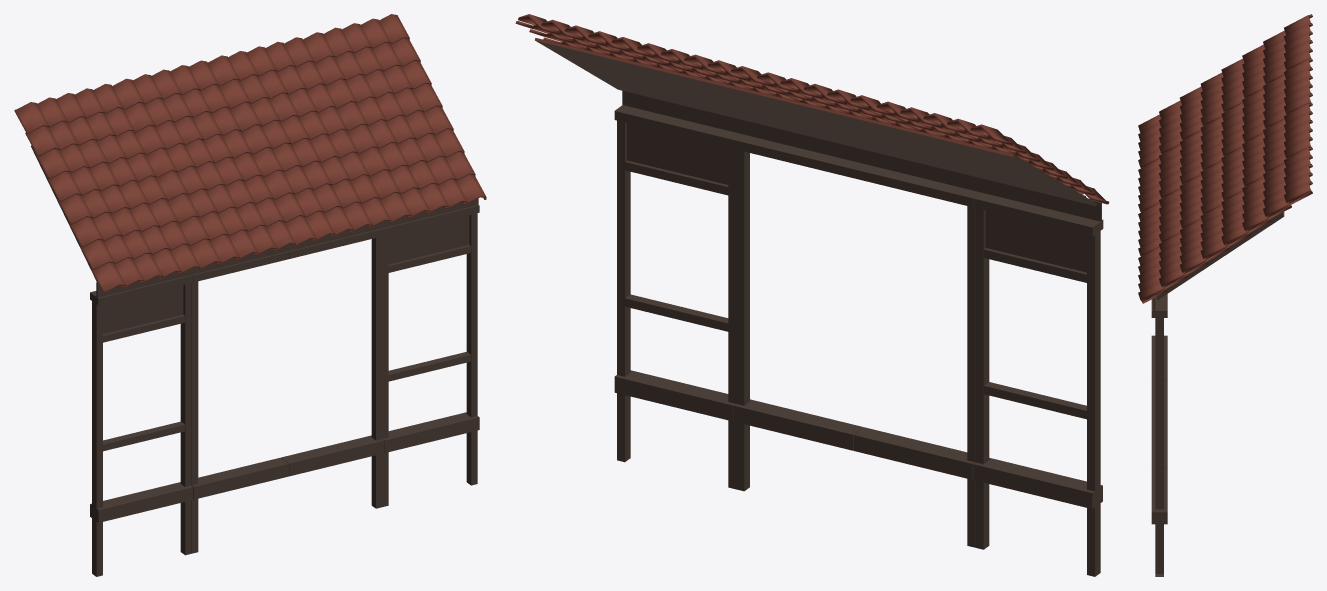
File: outside-panel-entrance.fbx
3 renders of one model, left to right at view 1: azimuth 30°, elevation 25°; view 2: azimuth 150°, elevation 25°; view 3: azimuth 270°, elevation 25°, orthographic. The views are drawn at different scales.
Visible parts, largest first — view 1: Cube.022, Cube.027; view 2: Cube.027, Cube.022; view 3: Cube.022, Cube.027.
Boxes of the visible parts, x1,y1,x2,y2 form: Cube.022: (14, 14, 486, 292); Cube.027: (31, 145, 479, 576); Cube.027: (535, 40, 1103, 576); Cube.022: (515, 14, 1109, 204); Cube.022: (1138, 14, 1312, 303); Cube.027: (1151, 212, 1283, 576).
Size of the model in its own units: 405 by 416 by 168.
